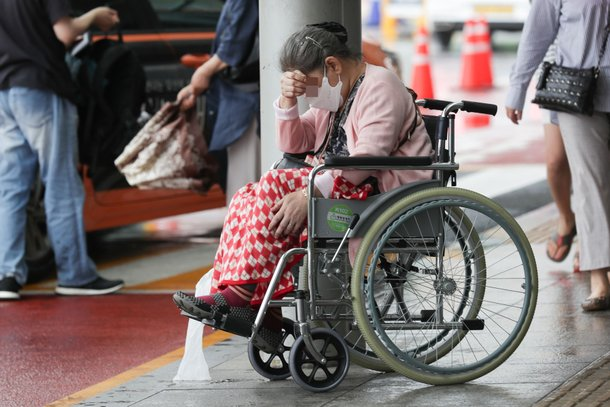wheelchair: (172, 20, 540, 391)
